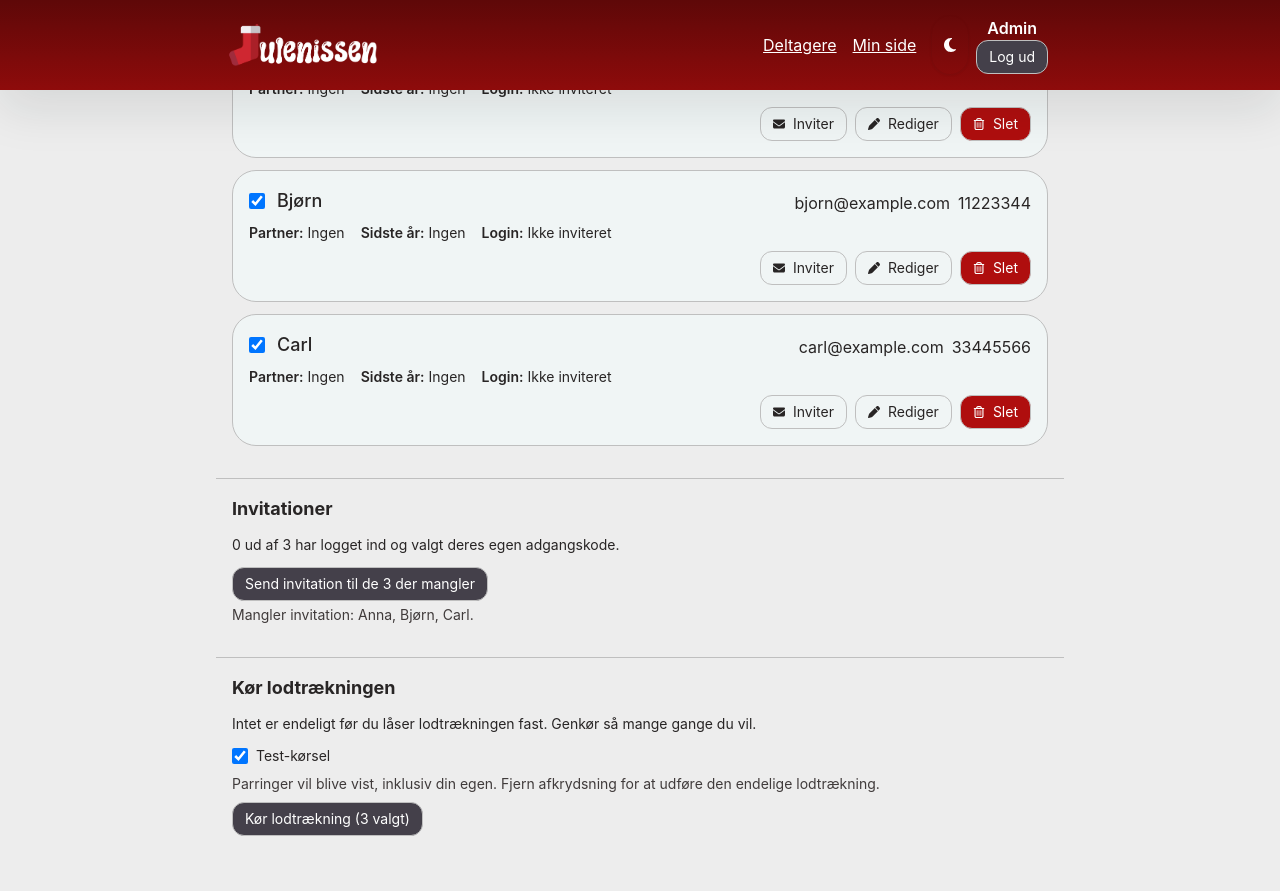
Scenario: running a match from the admin page › asks the server to hide them, rather than just not rendering them
(page scrolled)
Click the checkbox labelled "Test-kørsel".
click(240, 756)  # box [232, 748, 248, 764]
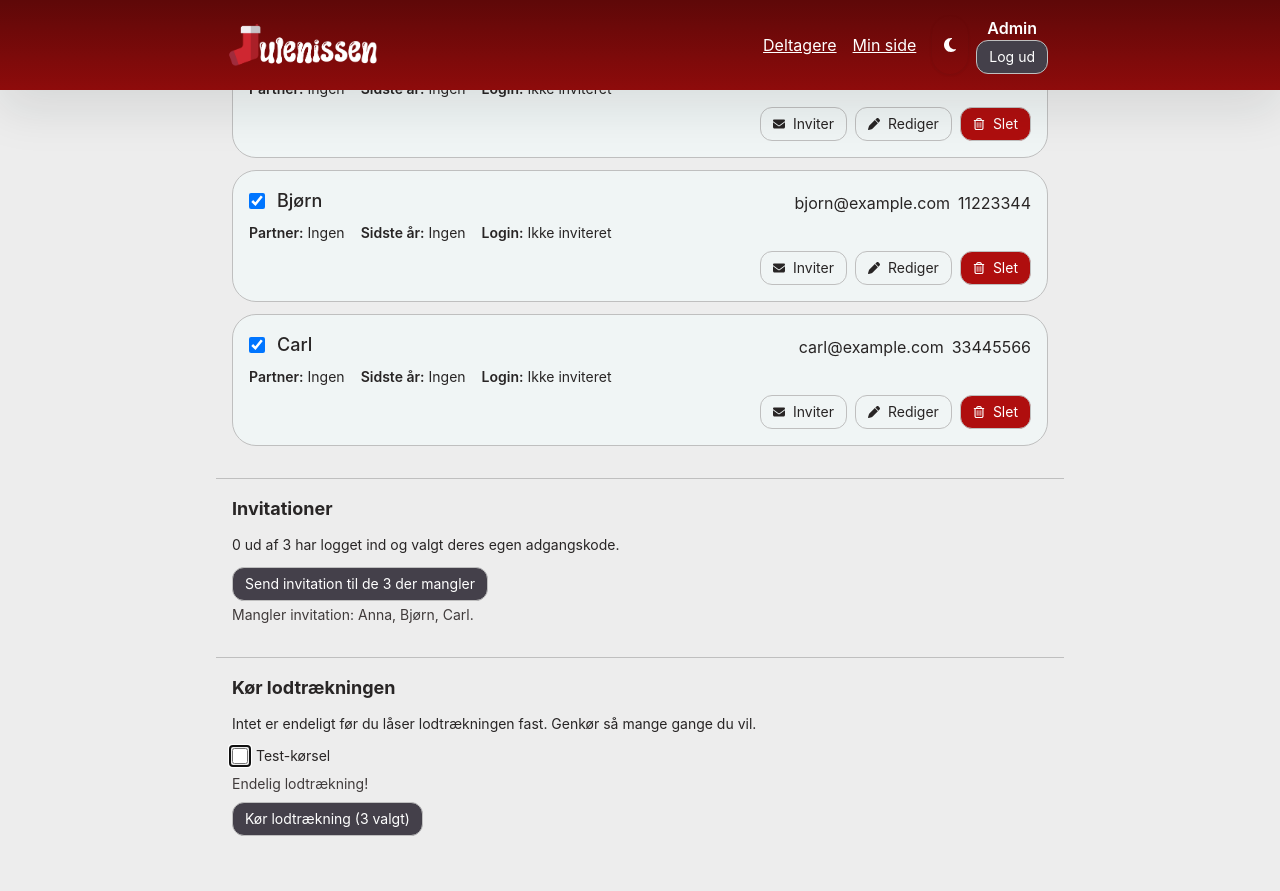
Click the button "Kør lodtrækning (3 valgt)".
click(327, 819)  # box [232, 802, 423, 836]
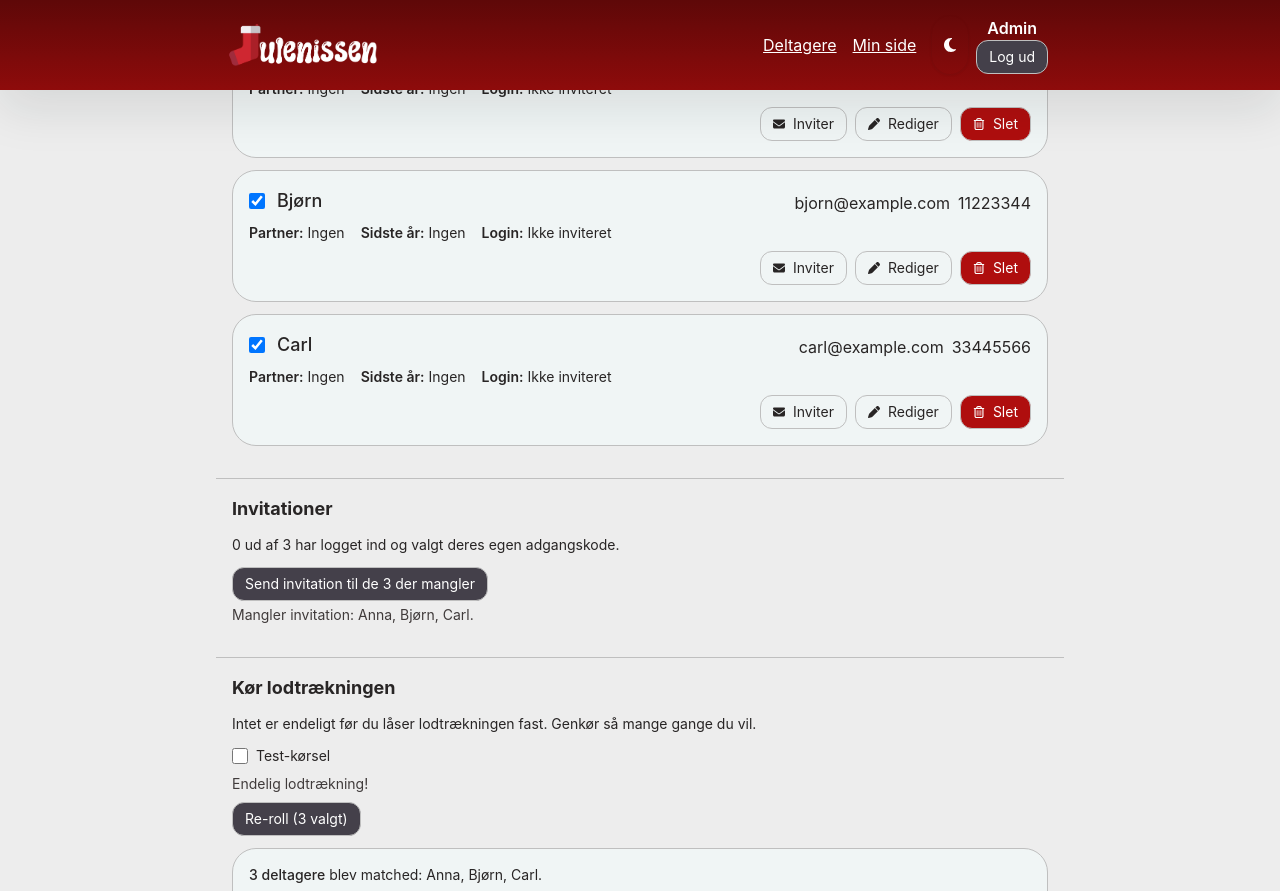
Expected: the text "3 deltagere" is shown, [249, 866, 325, 883]
